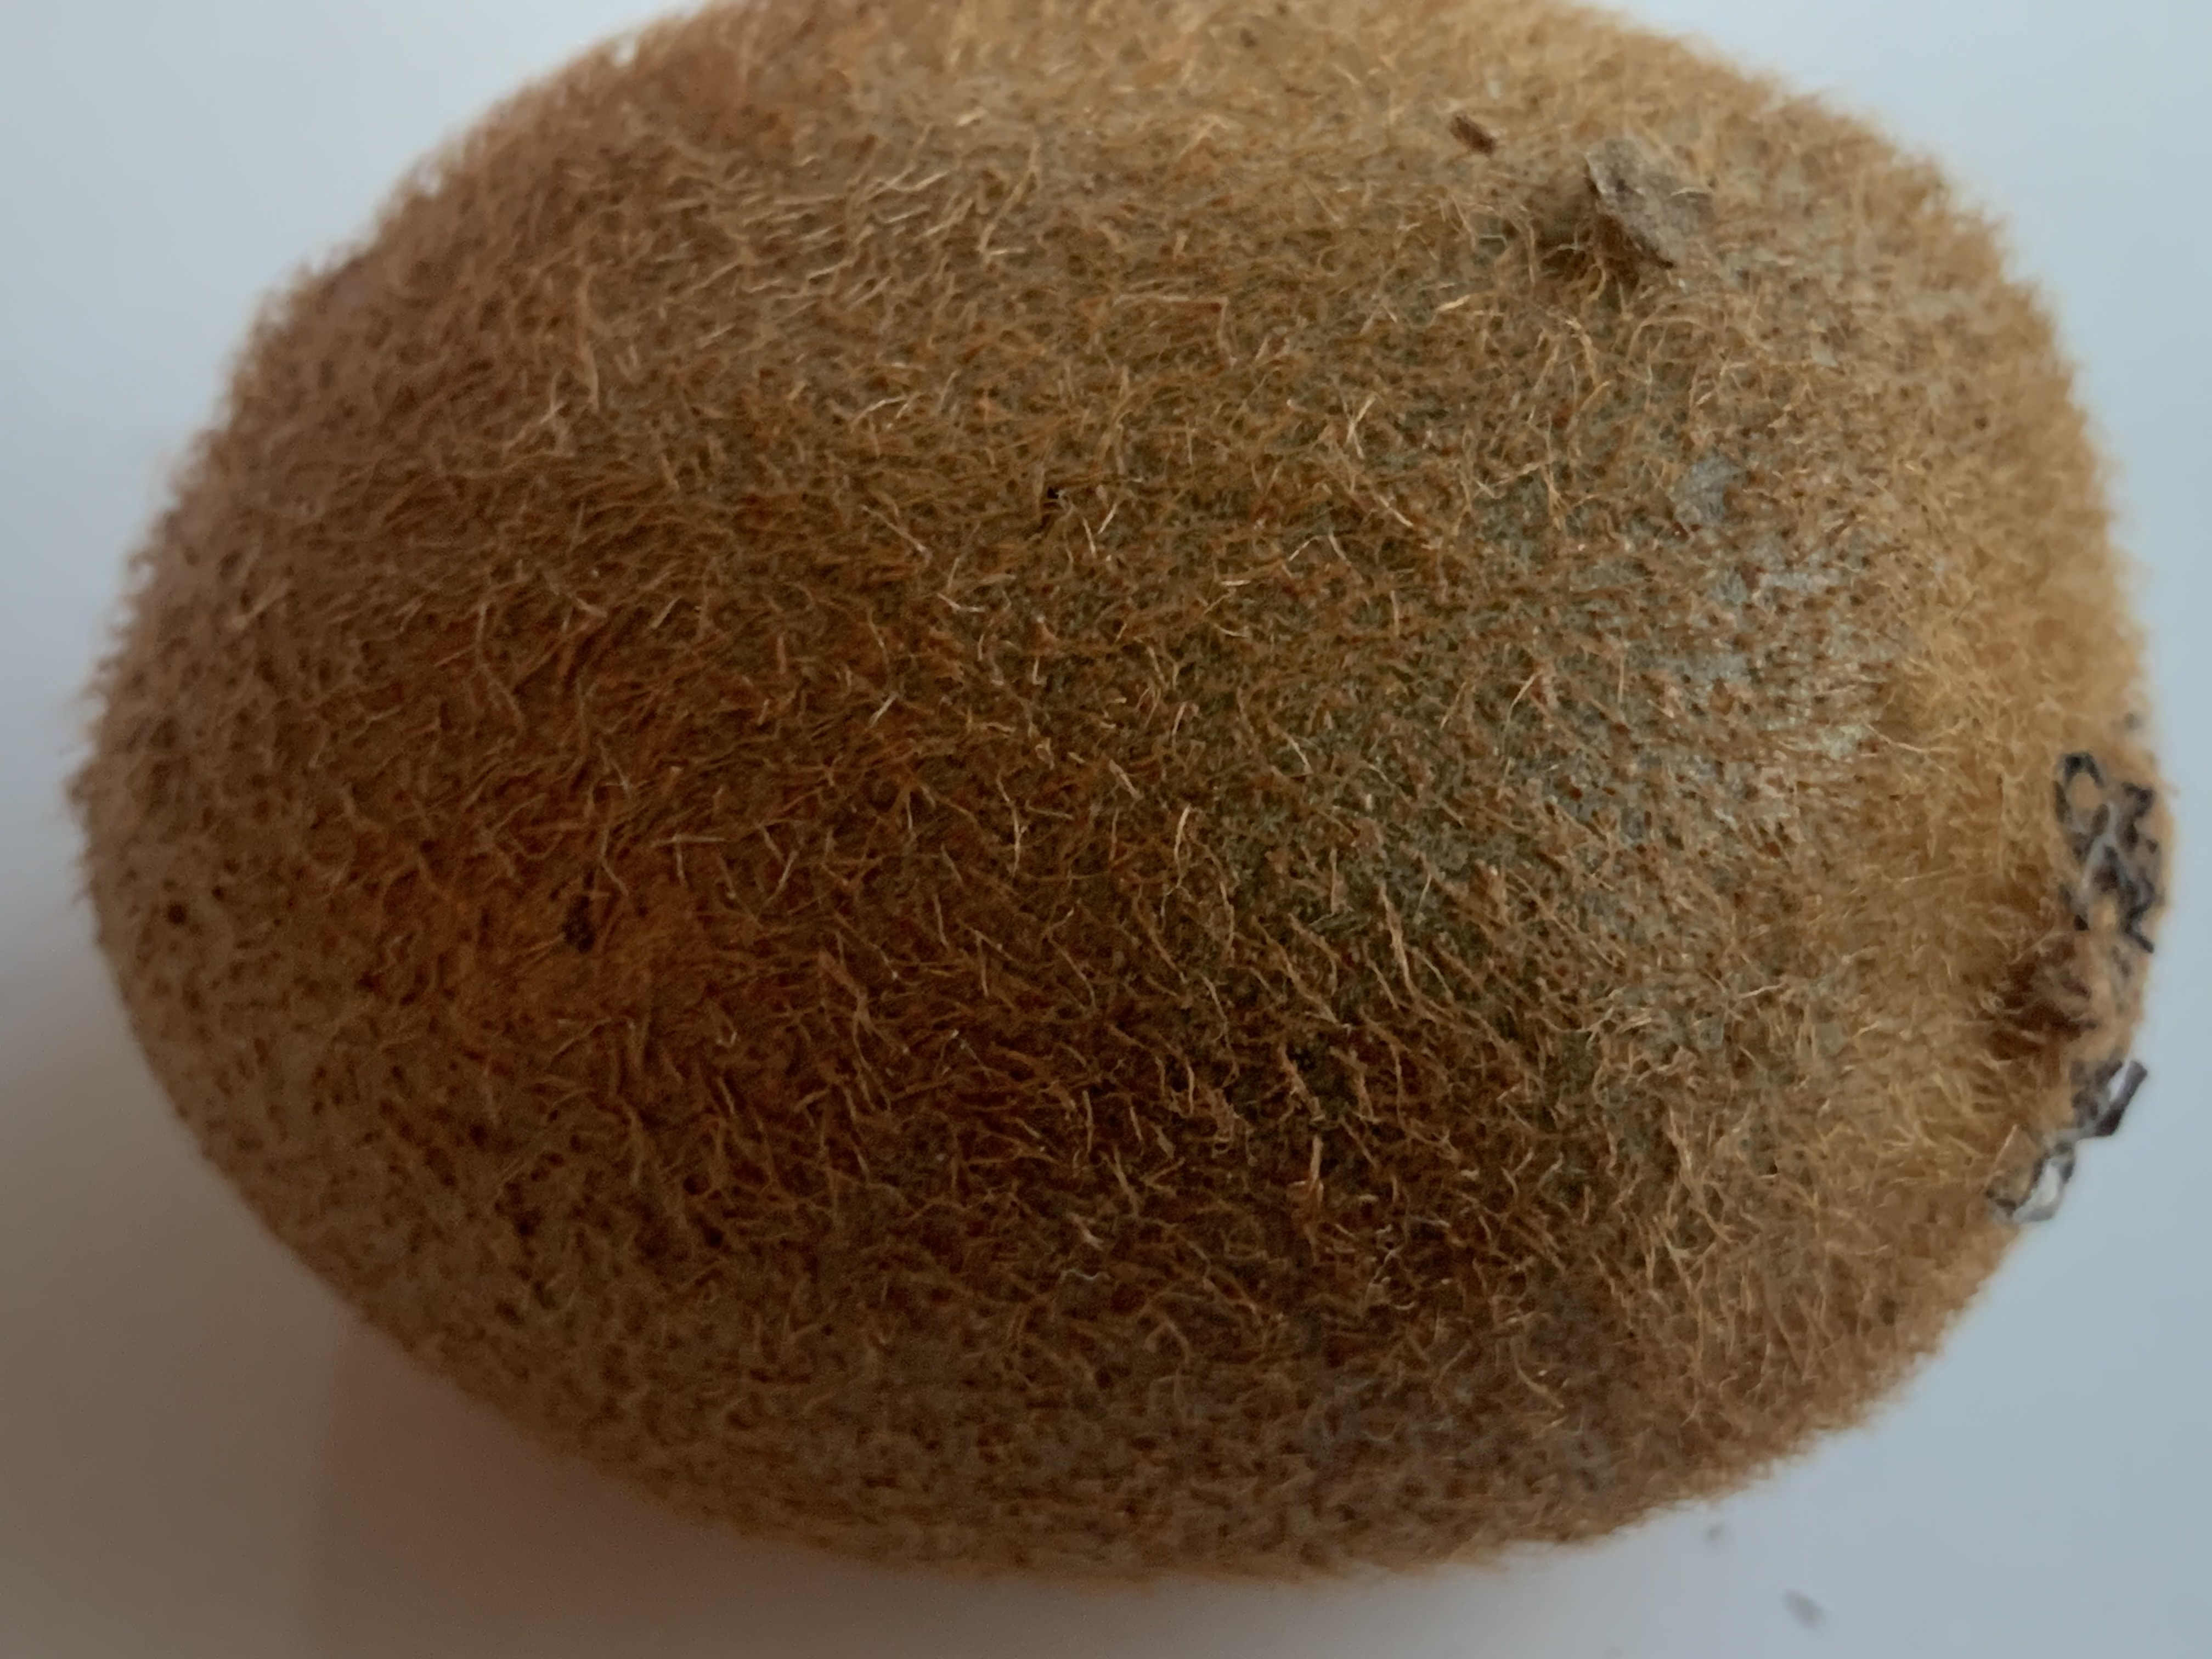kiwi: (17, 2, 2182, 1603)
